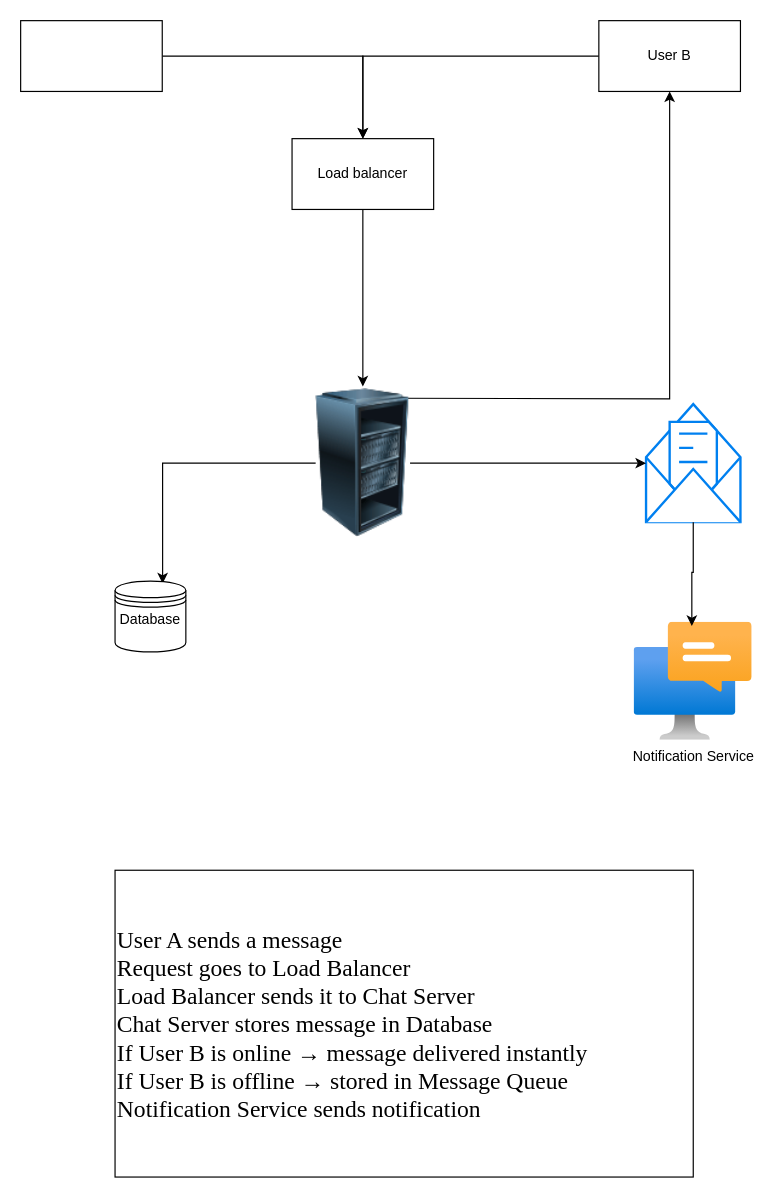
Some shapes in this 774 by 1198 pixel diagram are drawn without their labels. Here are the shapes that lost their labels. From the top down, the box of each, then its label:
(19, 19, 162, 91): User A
(315, 386, 409, 539): Chat Server
(644, 402, 741, 523): Message Queue
